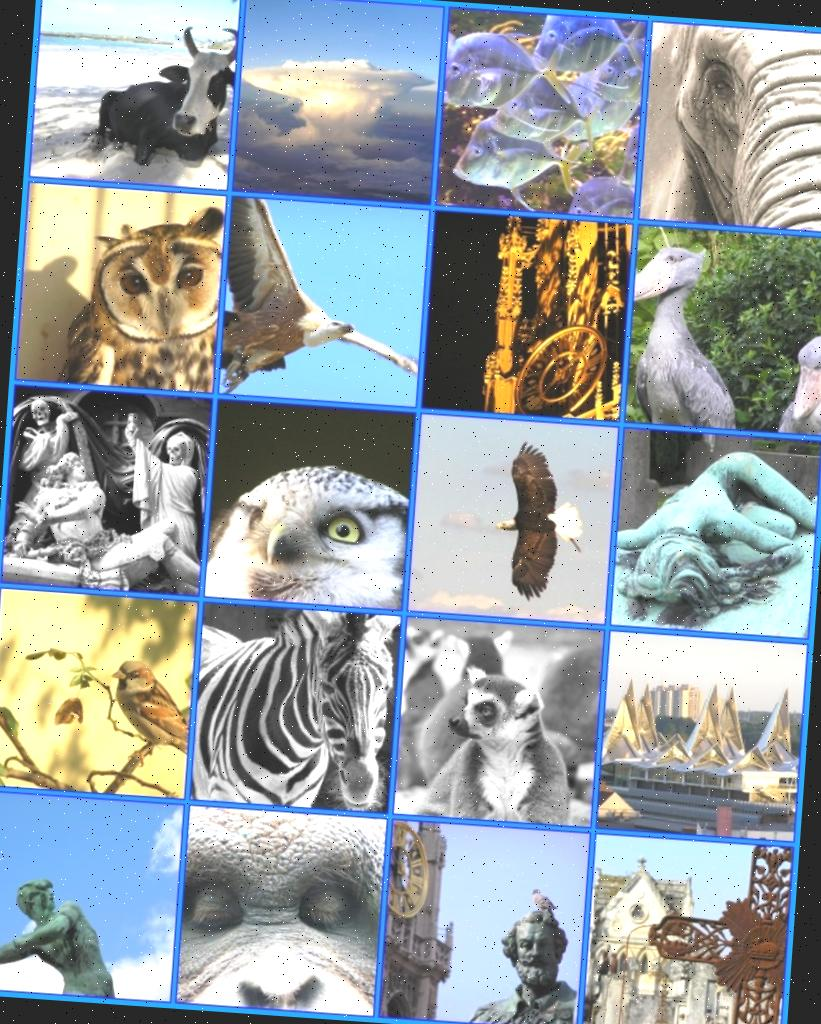Owl: (200, 446, 418, 618), (61, 198, 236, 398)
